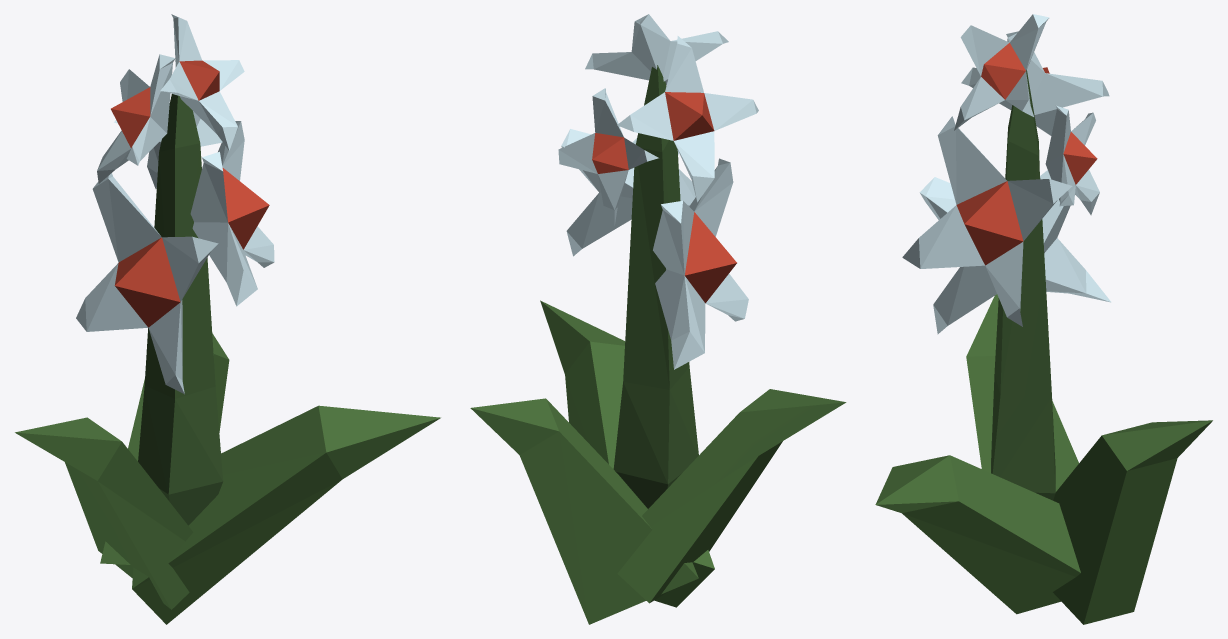
File: SM_Env_Plant_02.gltf
The picture shows the model from 3 angles, left to right: view 1: azimuth 30°, elevation 25°; view 2: azimuth 150°, elevation 25°; view 3: azimuth 270°, elevation 25°; orthographic projection. The views are drawn at different scales.
Visible parts, largest first — view 1: SM_Env_Plant_02; view 2: SM_Env_Plant_02; view 3: SM_Env_Plant_02.
Boxes of the visible parts, x1,y1,x2,y2 form: SM_Env_Plant_02: (15, 14, 440, 624); SM_Env_Plant_02: (470, 14, 846, 624); SM_Env_Plant_02: (875, 14, 1212, 624).
Size of the model in its own units: 0.5243 by 0.8136 by 0.4086.
1 material, 1 textured.
